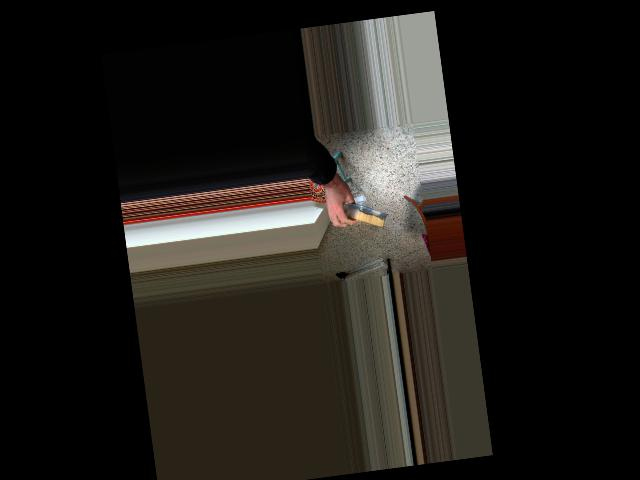cheese: (320, 187, 393, 249)
